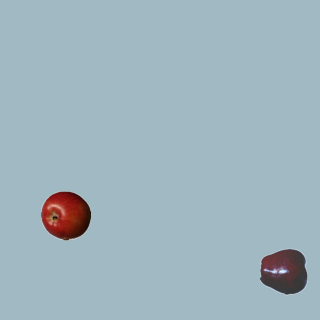Apple Braeburn: (40, 190, 90, 240)
Apple Red Delicious: (259, 246, 309, 296)
